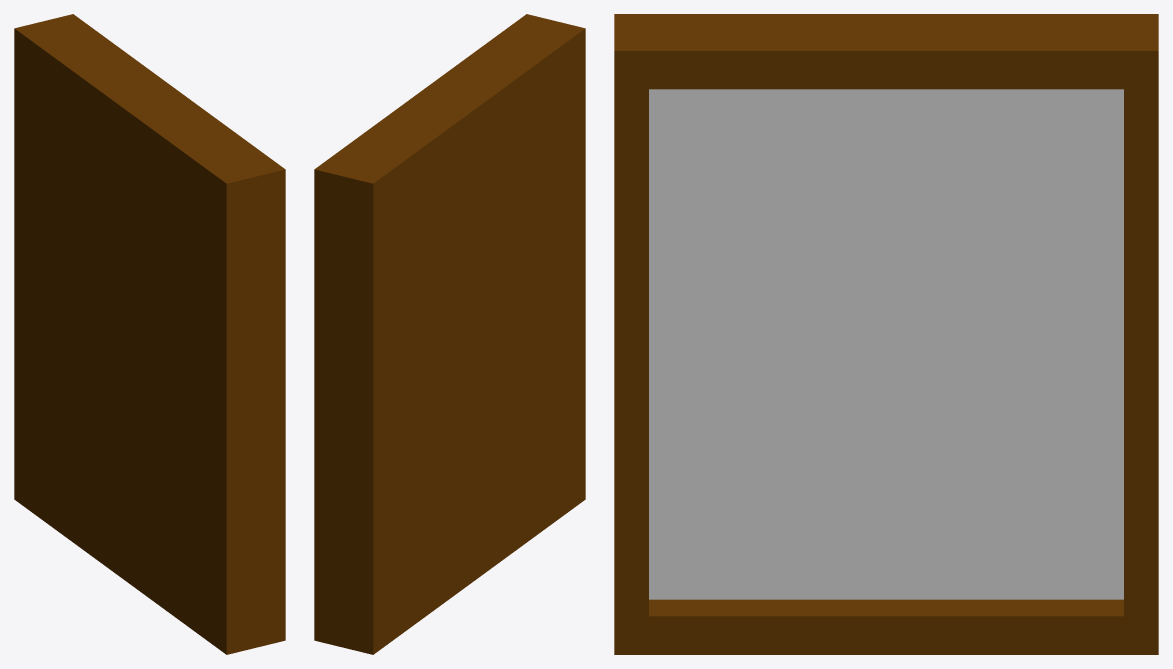
Rendered from Picture Frame 3.fbx.
3 views of the same model, side by side, from view 1: azimuth 30°, elevation 25°; view 2: azimuth 150°, elevation 25°; view 3: azimuth 270°, elevation 25° (orthographic). The views are drawn at different scales.
Visible parts, largest first — view 1: Picture Frame 4; view 2: Picture Frame 4; view 3: Picture Frame 4.
Part boxes in pixels (<box>): Picture Frame 4: <box>14,14,285,654</box>; Picture Frame 4: <box>314,14,585,654</box>; Picture Frame 4: <box>614,14,1158,654</box>.
Size of the model in its own units: 0.1194 by 0.7452 by 0.9123.
